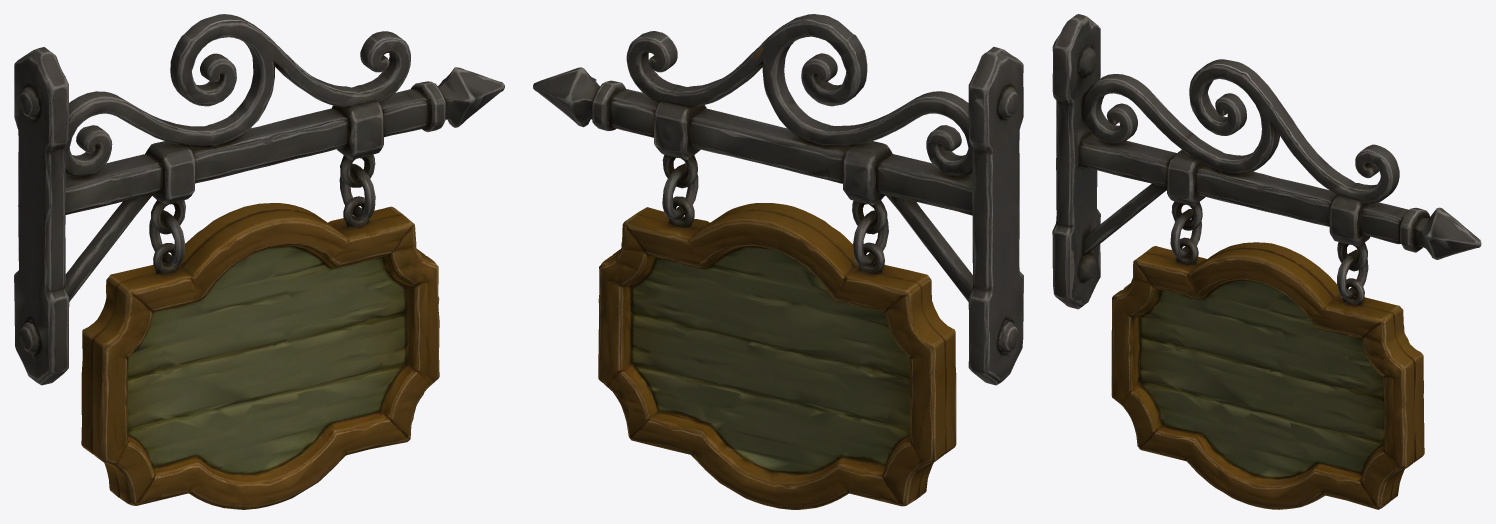
The model's file is trim_sign.glb.
The picture shows the model from 3 angles, left to right: view 1: azimuth 30°, elevation 25°; view 2: azimuth 150°, elevation 25°; view 3: azimuth 330°, elevation 25°; orthographic projection. The views are drawn at different scales.
Parts seen in each view (by area): view 1: tripo_node_10858961-f2b4-403d-84d3-02f7f99c3396; view 2: tripo_node_10858961-f2b4-403d-84d3-02f7f99c3396; view 3: tripo_node_10858961-f2b4-403d-84d3-02f7f99c3396.
Boxes of the visible parts, x1,y1,x2,y2 form: tripo_node_10858961-f2b4-403d-84d3-02f7f99c3396: (14,14,504,509); tripo_node_10858961-f2b4-403d-84d3-02f7f99c3396: (533,14,1023,509); tripo_node_10858961-f2b4-403d-84d3-02f7f99c3396: (1052,14,1481,509).
Size of the model in its own units: 0.9817 by 0.9771 by 0.1349.
1 material, 1 textured.
